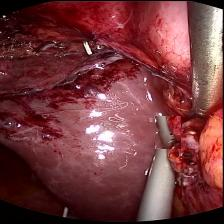Irrigator: (156, 115, 182, 148)
